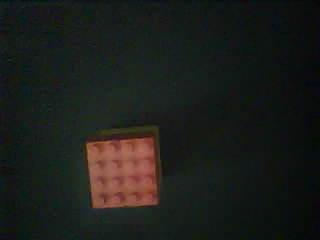lego: (85, 127, 162, 210)
